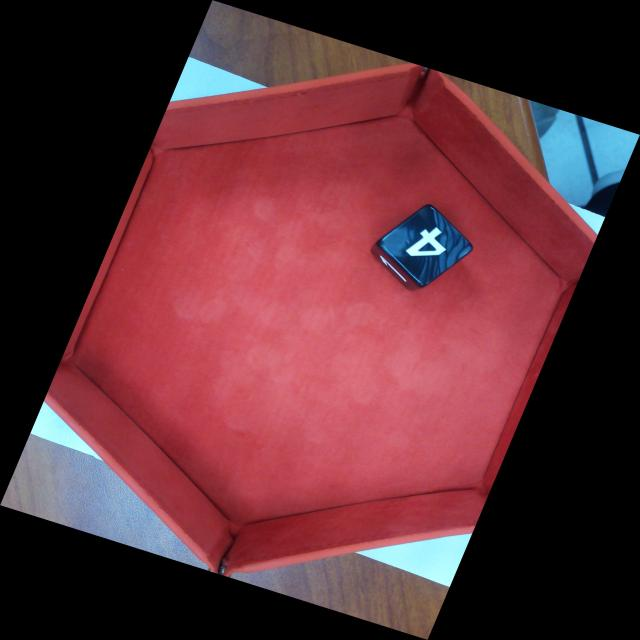dice: (375, 201, 477, 286)
